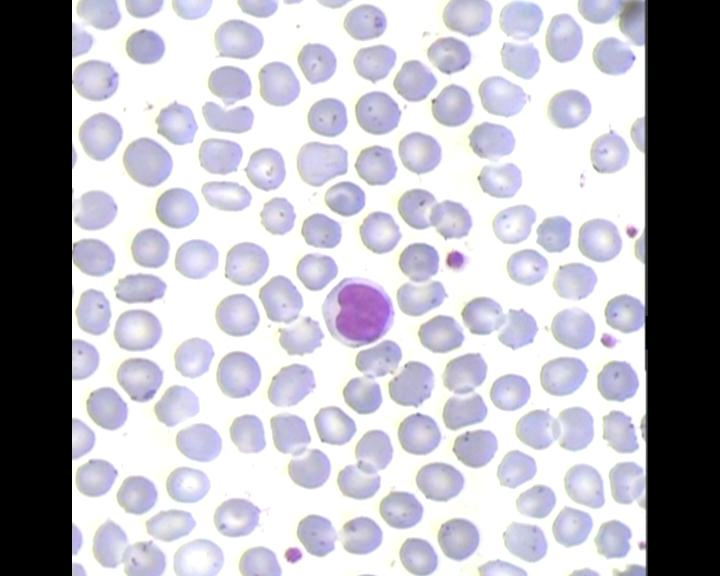lymp: (318, 272, 397, 351)
